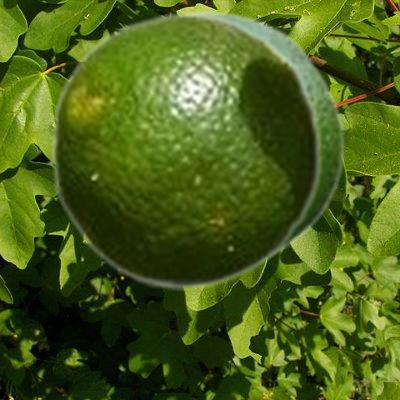calamansi: (49, 11, 323, 289), (180, 8, 345, 269)
